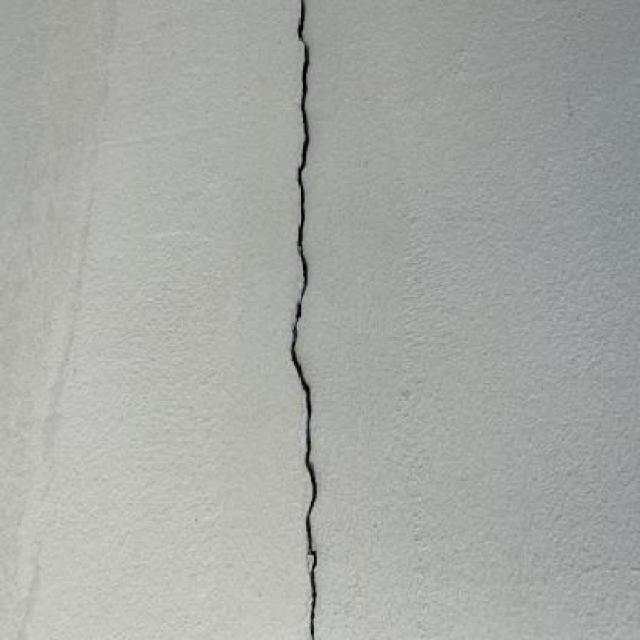GRIETA: (290, 0, 317, 639)
